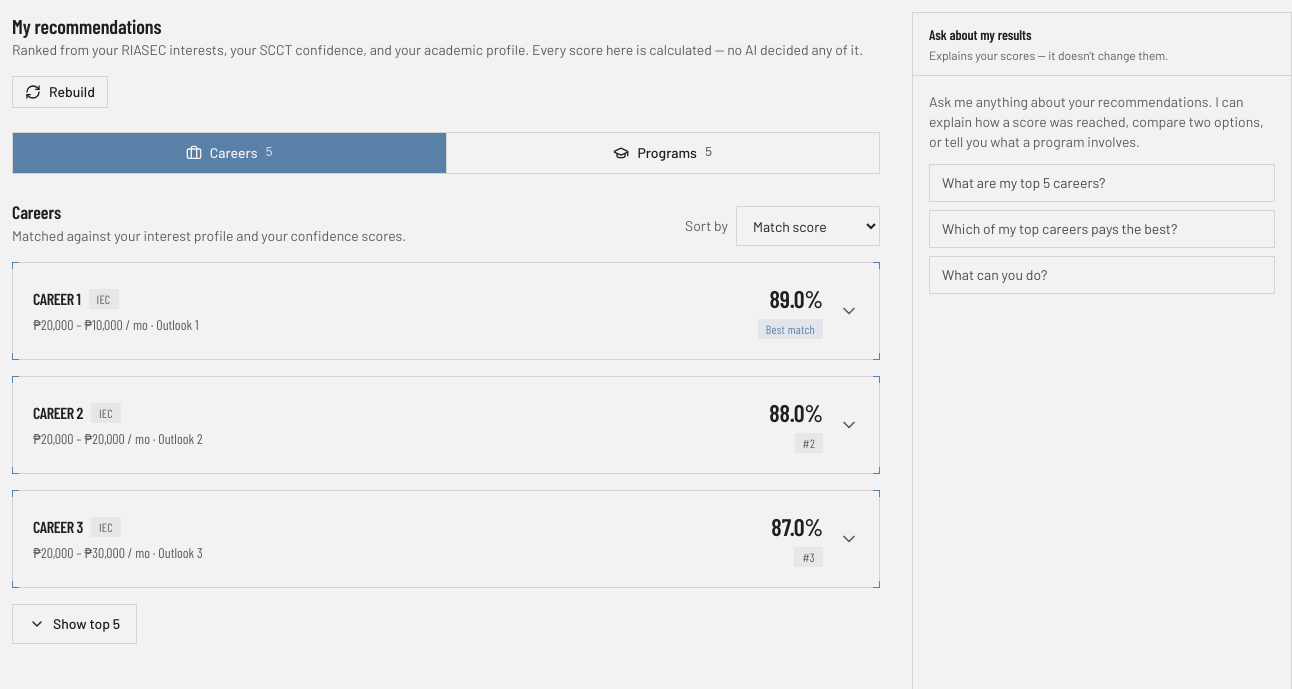
it: RecommendationPage › shows each match as a peek that expands on click
Check: the text "Reason 1" is not shown
Check: the button "explain more" is not shown
Click the button "Career 1 ": (57, 298) [13,263,879,359]
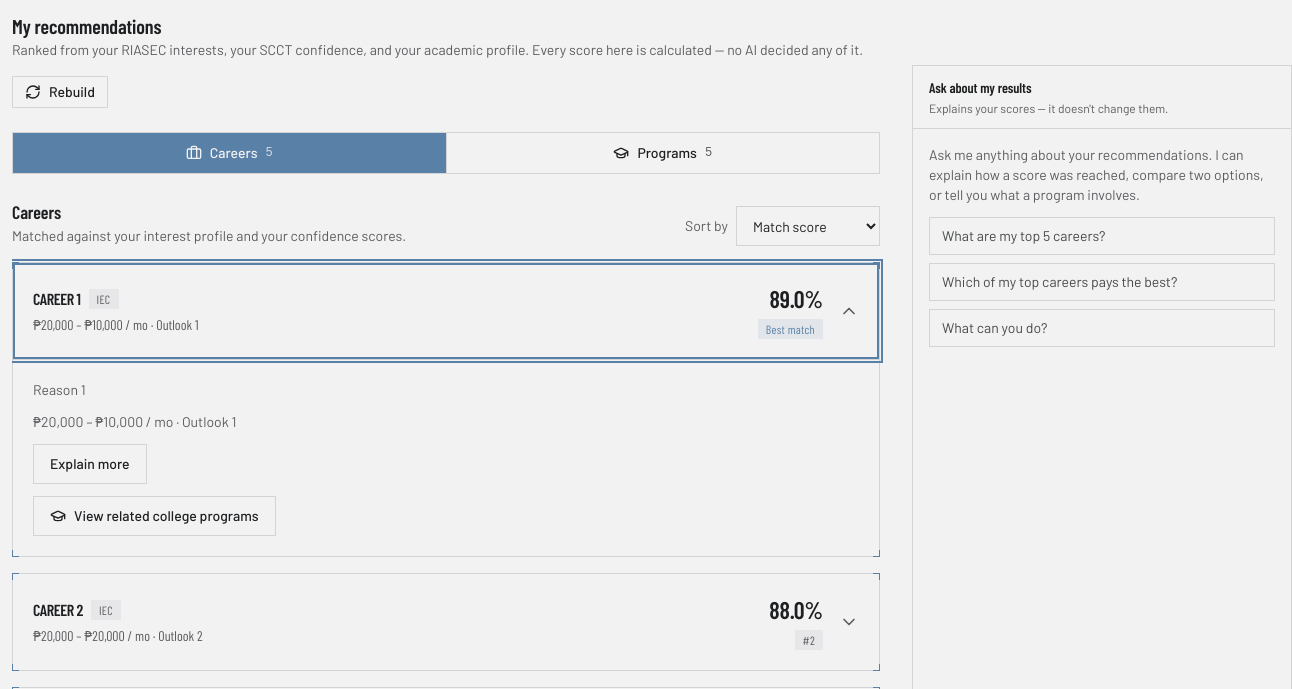
Check: the button "Career 1 " is expanded
Check: the text "Reason 1" is shown, box [33,381,86,398]
Check: the number of buttons "Explain more" is 1, box [33,444,146,484]
Click the button "Career 1 ": (57, 298) [13,263,879,359]
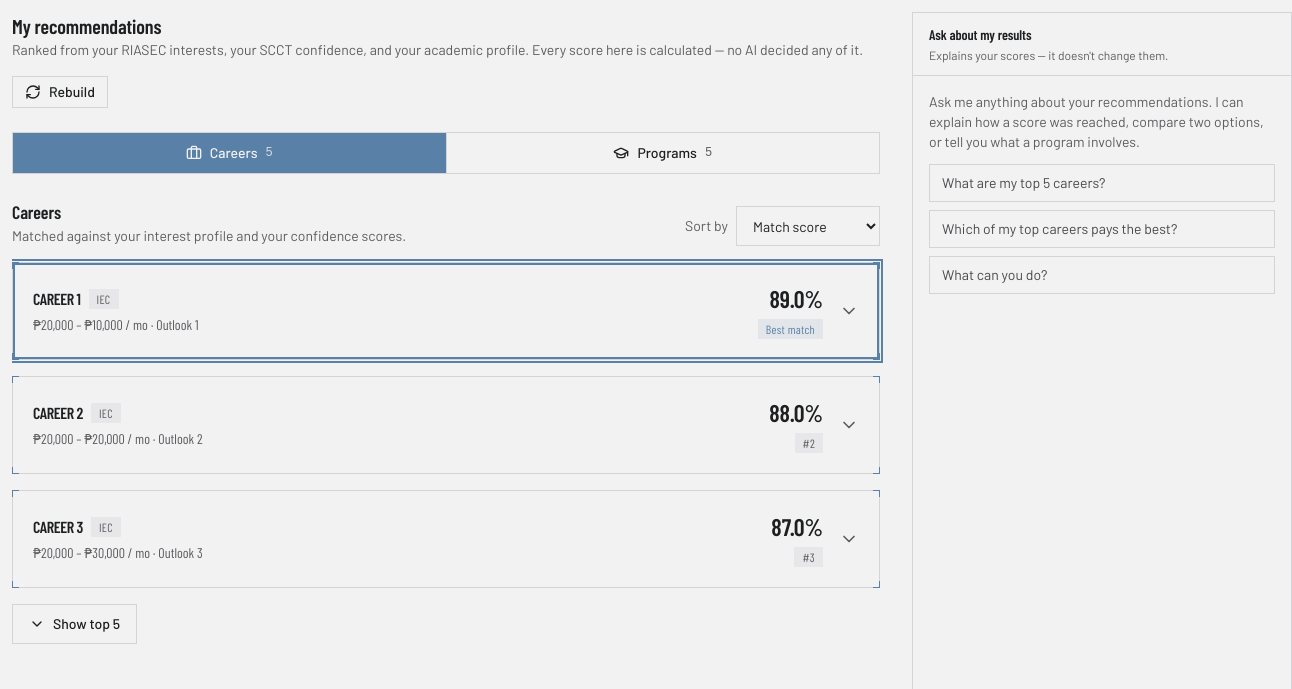
Check: the button "Career 1 " is collapsed, box [13,263,879,359]
